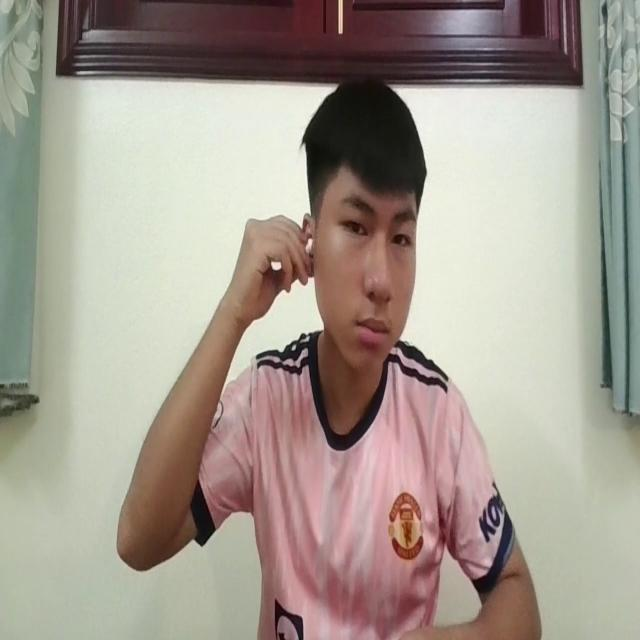student: (118, 72, 550, 640)
